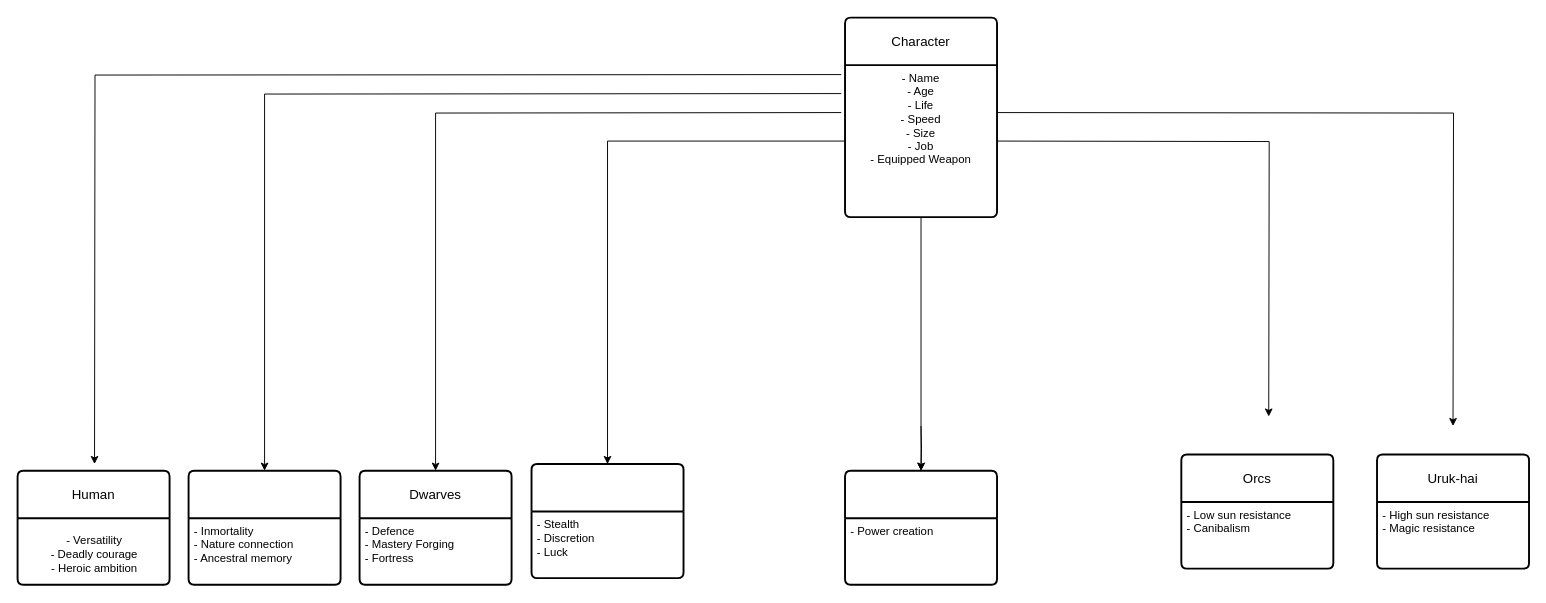
Some shapes in this 1546 by 603 pixel diagram are drawn without their labels. Each missing label, with the box of its shape:
Elves: (187, 469, 341, 585)
Hobbits: (530, 463, 684, 579)
Maiar y Valar: (844, 469, 998, 585)
